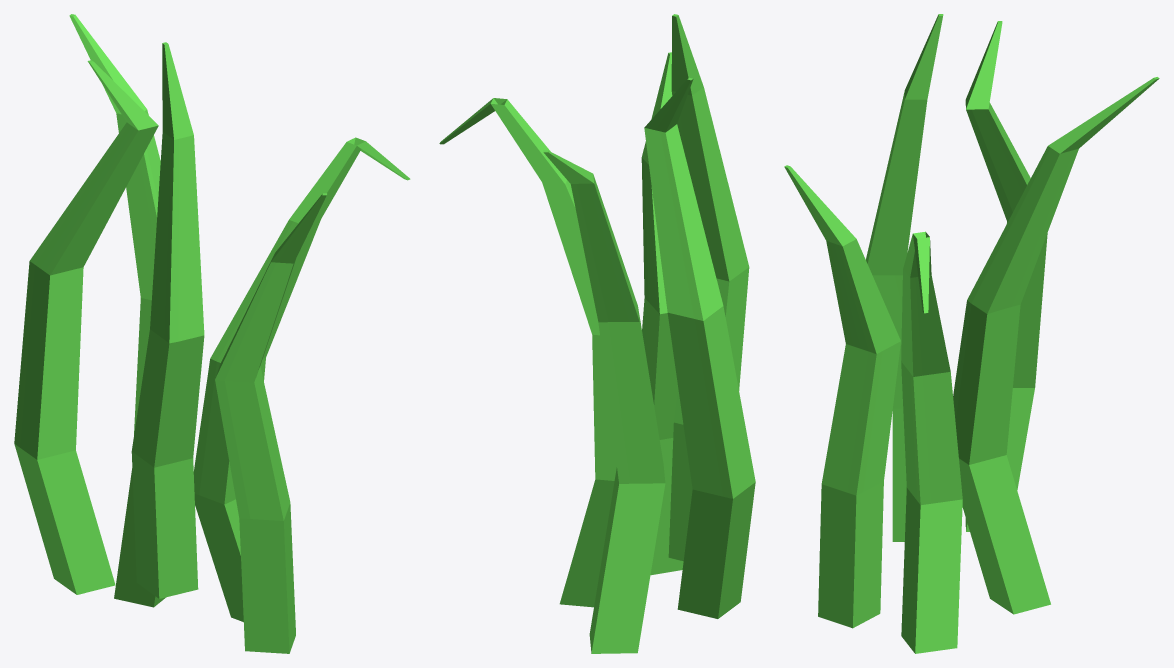
File: grass.fbx
3 views of the same model, side by side, from view 1: azimuth 30°, elevation 25°; view 2: azimuth 150°, elevation 25°; view 3: azimuth 270°, elevation 25° (orthographic). The views are drawn at different scales.
Visible parts, largest first — view 1: Cube.001, Cube, Cube.003, Cube.004, Cube.002; view 2: Cube.001, Cube.002, Cube, Cube.004, Cube.003; view 3: Cube.002, Cube.003, Cube.004, Cube, Cube.001.
Boxes of the visible parts, x1,y1,x2,y2 form: Cube.001: (14, 60, 158, 594); Cube: (131, 42, 204, 598); Cube.003: (215, 193, 326, 653); Cube.004: (193, 137, 410, 621); Cube.002: (69, 14, 165, 607); Cube.001: (644, 77, 755, 618); Cube.002: (543, 150, 665, 653); Cube: (668, 14, 749, 561); Cube.004: (439, 98, 640, 607); Cube.003: (641, 52, 683, 575); Cube.002: (953, 77, 1159, 614); Cube.003: (784, 165, 900, 628); Cube.004: (901, 231, 962, 653); Cube: (866, 14, 943, 541); Cube.001: (965, 21, 1047, 531).
Size of the model in its own units: 0.8735 by 1.45 by 0.8465.
